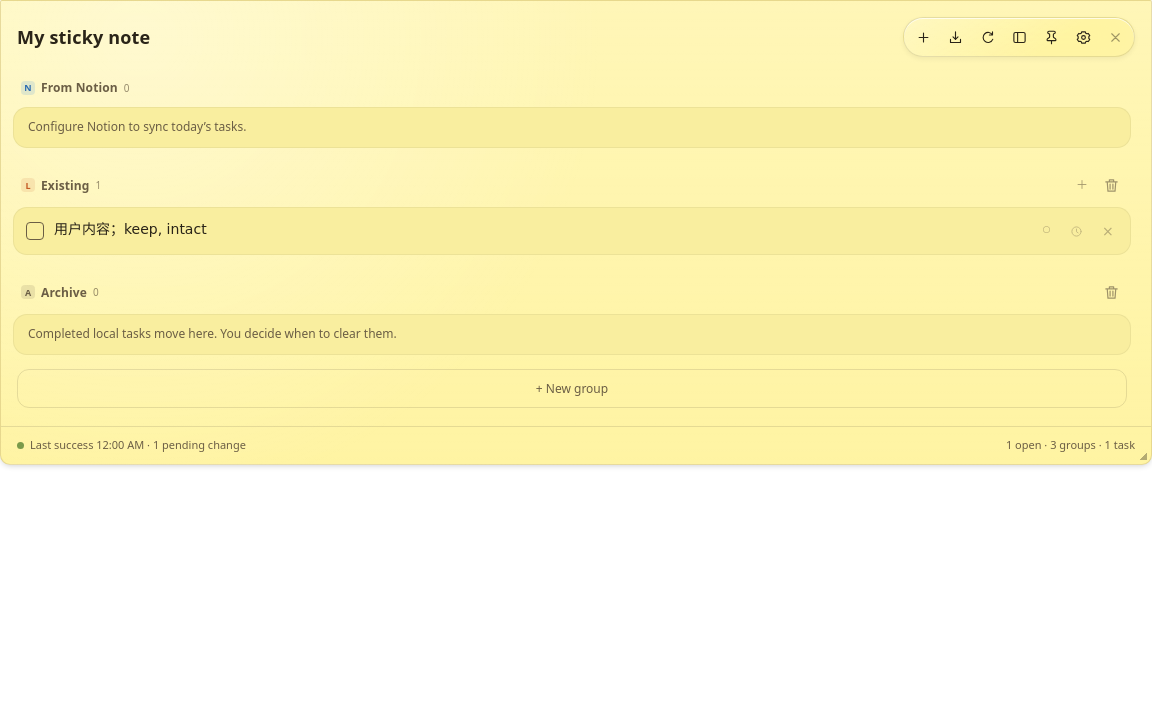
Test: localizes the complete English task surface without changing task or group content
Expected: the heading "My sticky note" is shown, [17,25,150,49]
Expected: the button named "Create content" is shown, [908,22,938,52]
What coordinates should you click on to do the following:
click the button with class "task-del"
I would click on:
 (1107, 231)
Its box is [1096,220,1118,242].
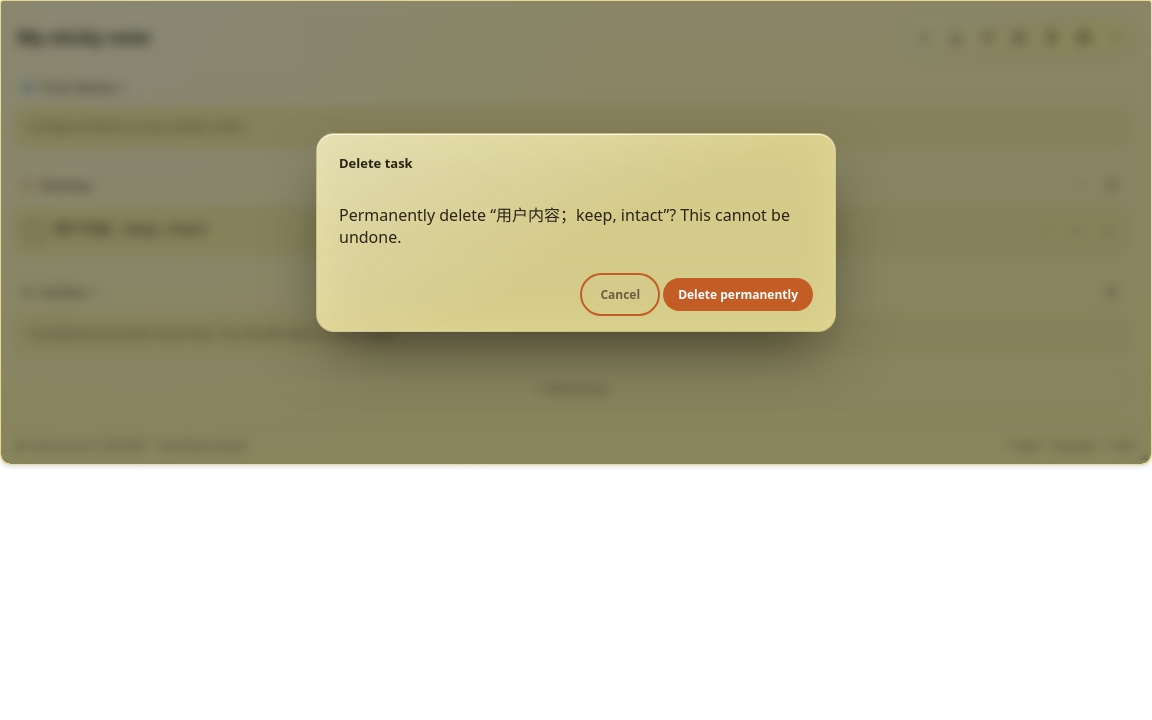
Expected: the dialog shows "Permanently delete “用户内容；keep, intact”?", [339,204,790,248]
Expected: the button "Cancel" is shown
What coordinates should you click on to do the following:
click the button "Cancel"
I would click on:
 (620, 294)
Its box is [585,278,655,311].
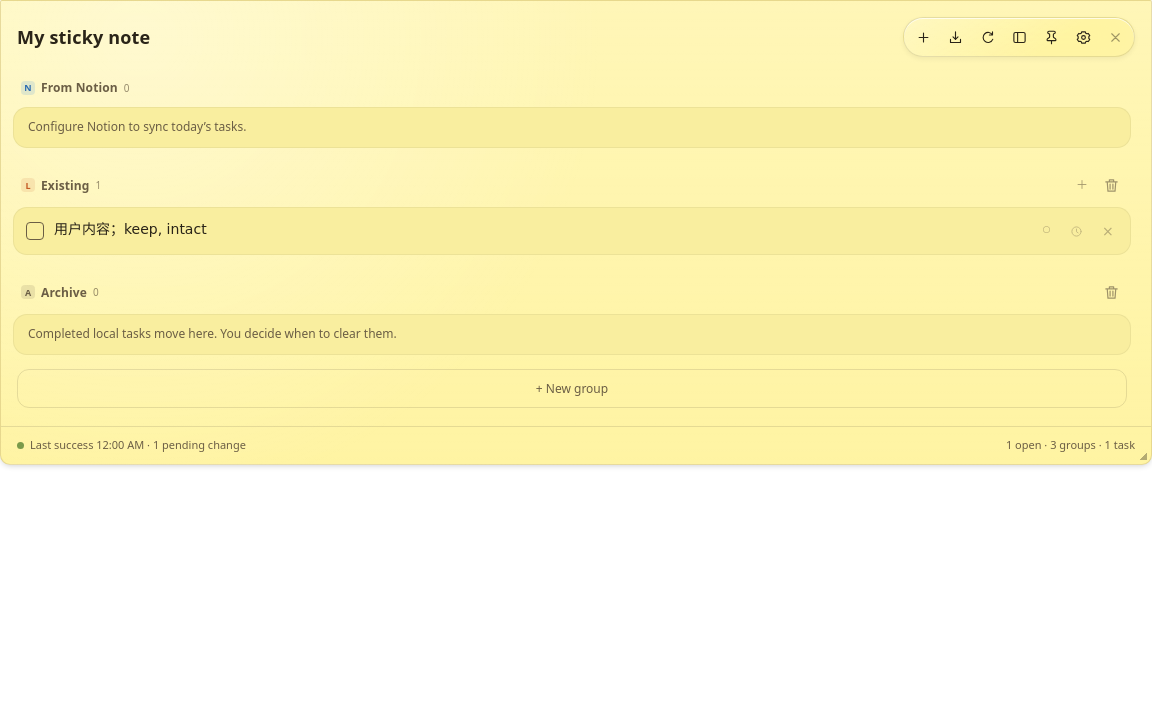
What coordinates should you click on to do the following:
click the button named "Import tasks"
I would click on:
 (955, 37)
Its box is [940,22,970,52].
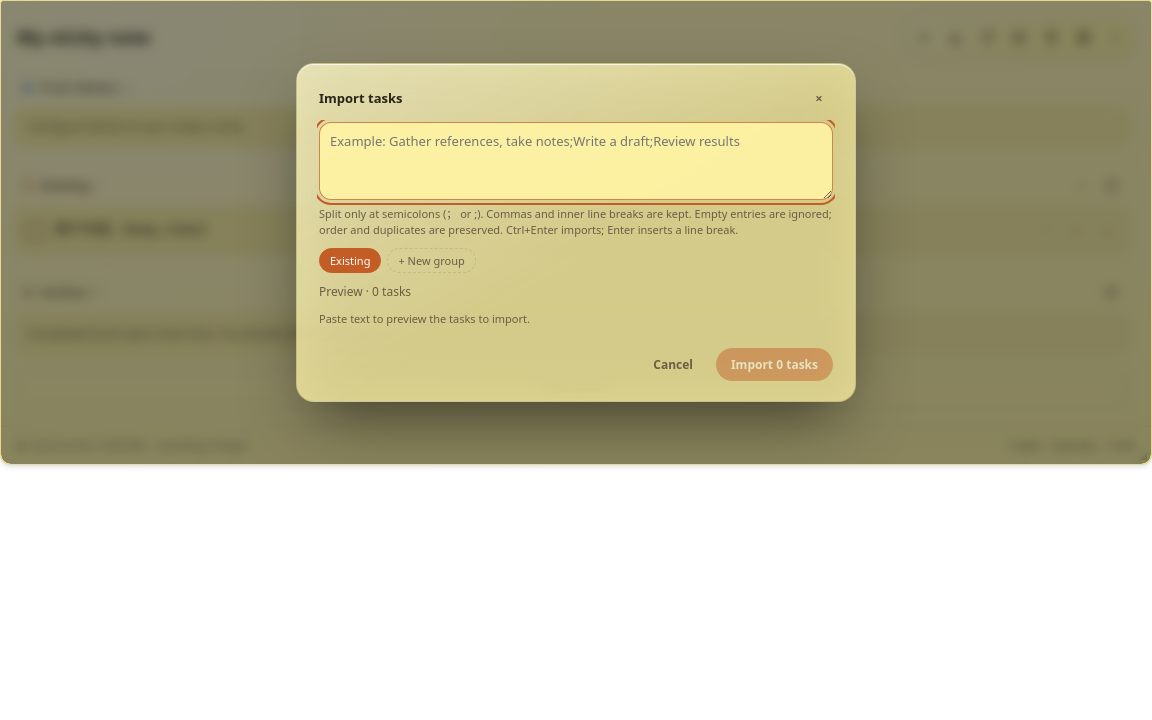
Expected: the text with class "import-hint" shows "Ctrl+Enter imports", [319,206,832,237]
Expected: the text with class "import-count" reads "Preview · 0 tasks", [319,283,411,300]
